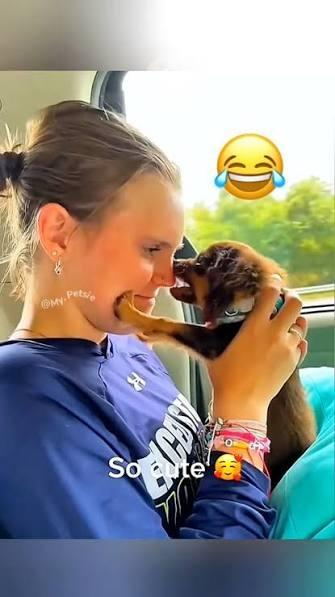non-dog: (0, 99, 308, 540)
puppy-dog: (114, 243, 318, 496)
